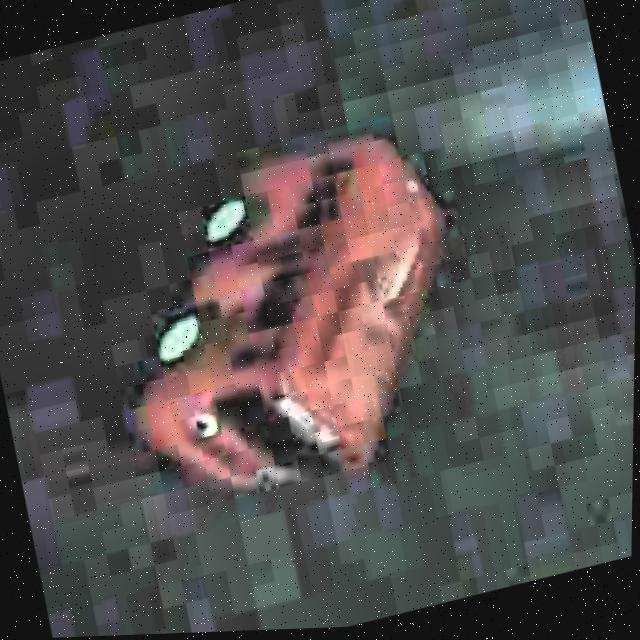bus: (74, 111, 503, 538)
